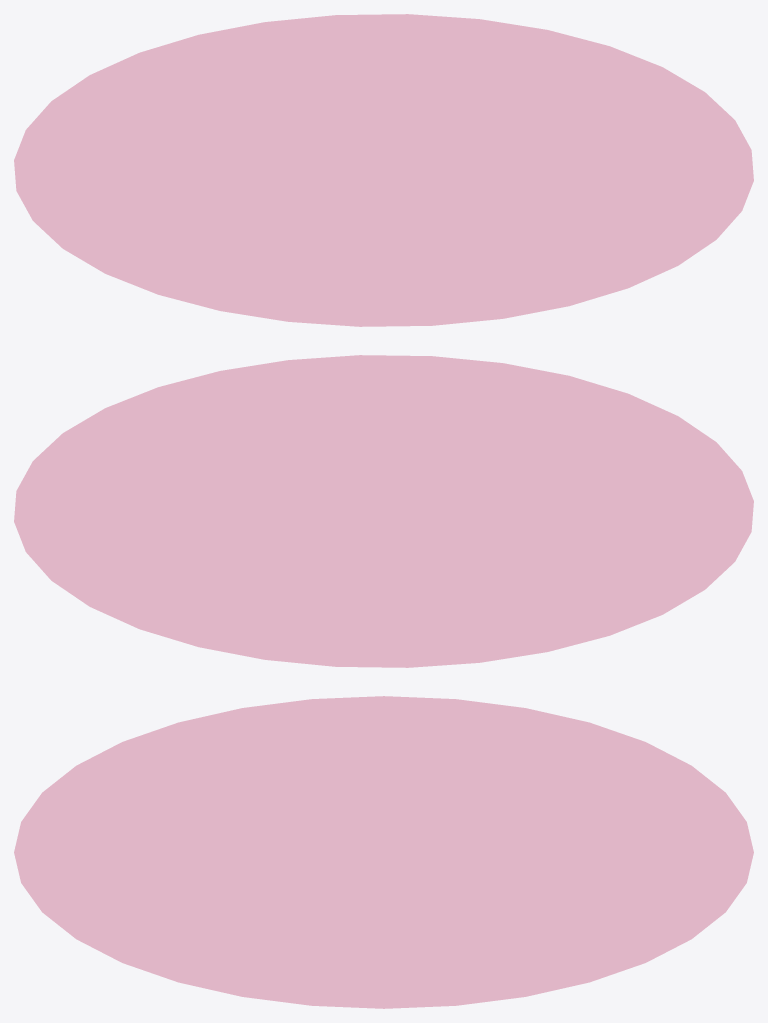
File: Ground.obj
3 views of the same model, one above another, from view 1: azimuth 30°, elevation 25°; view 2: azimuth 150°, elevation 25°; view 3: azimuth 270°, elevation 25° (orthographic).
Parts seen in each view (by area): view 1: stage1; view 2: stage1; view 3: stage1.
Boxes of the visible parts, x1,y1,x2,y2 form: stage1: (14,14,753,326); stage1: (14,355,753,667); stage1: (14,696,753,1008).
Size of the model in its own units: 40 by 0.02 by 40.
